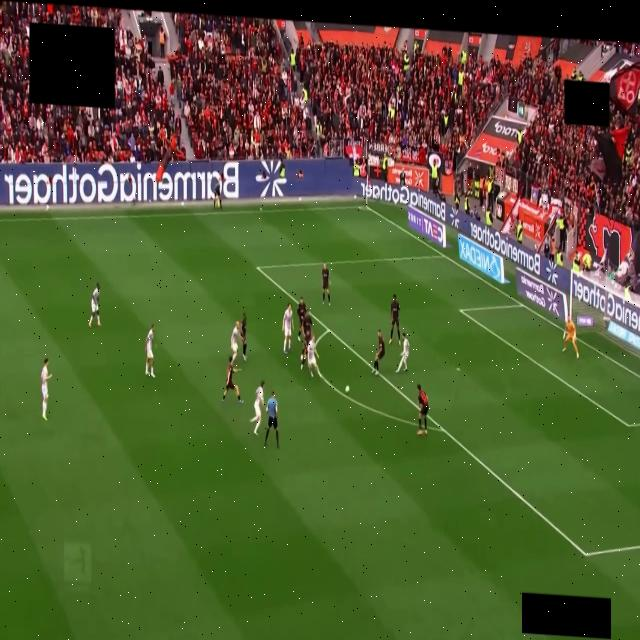ball: (345, 385, 349, 393)
player: (222, 356, 242, 404), (250, 380, 264, 434), (300, 310, 311, 370), (562, 318, 578, 358), (388, 295, 400, 346), (41, 359, 51, 420), (371, 329, 384, 375), (88, 283, 100, 327), (396, 333, 409, 373), (282, 303, 292, 354), (417, 384, 427, 435), (306, 335, 318, 377), (145, 324, 154, 377), (230, 321, 240, 364), (297, 298, 305, 341), (240, 312, 246, 360), (322, 264, 329, 305)
referee: (264, 392, 278, 449)
